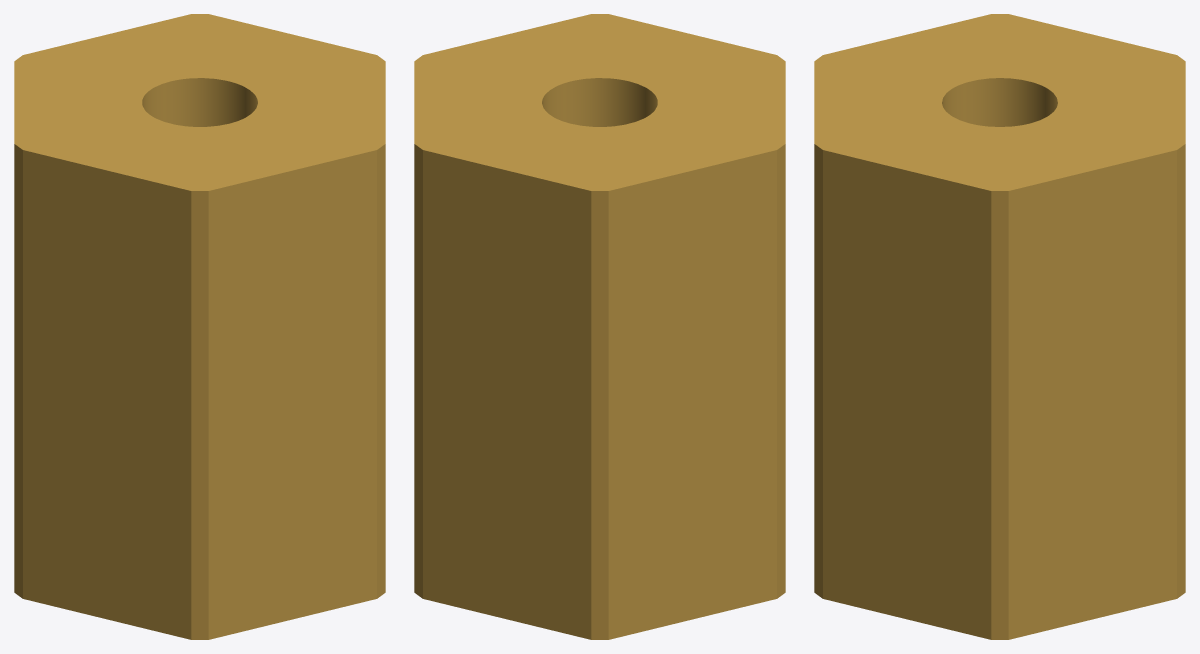
The model's file is standoff_hex_female_female_m3_l0010_simple.glb.
3 views of the same model, side by side, from view 1: azimuth 30°, elevation 25°; view 2: azimuth 150°, elevation 25°; view 3: azimuth 270°, elevation 25° (orthographic).
Parts seen in each view (by area): view 1: standoff; view 2: standoff; view 3: standoff.
Boxes of the visible parts, x1,y1,x2,y2 form: standoff: [14, 14, 385, 639]; standoff: [414, 14, 785, 639]; standoff: [814, 14, 1185, 639].
Size of the model in its own units: 0.00846 by 0.01 by 0.0075.
